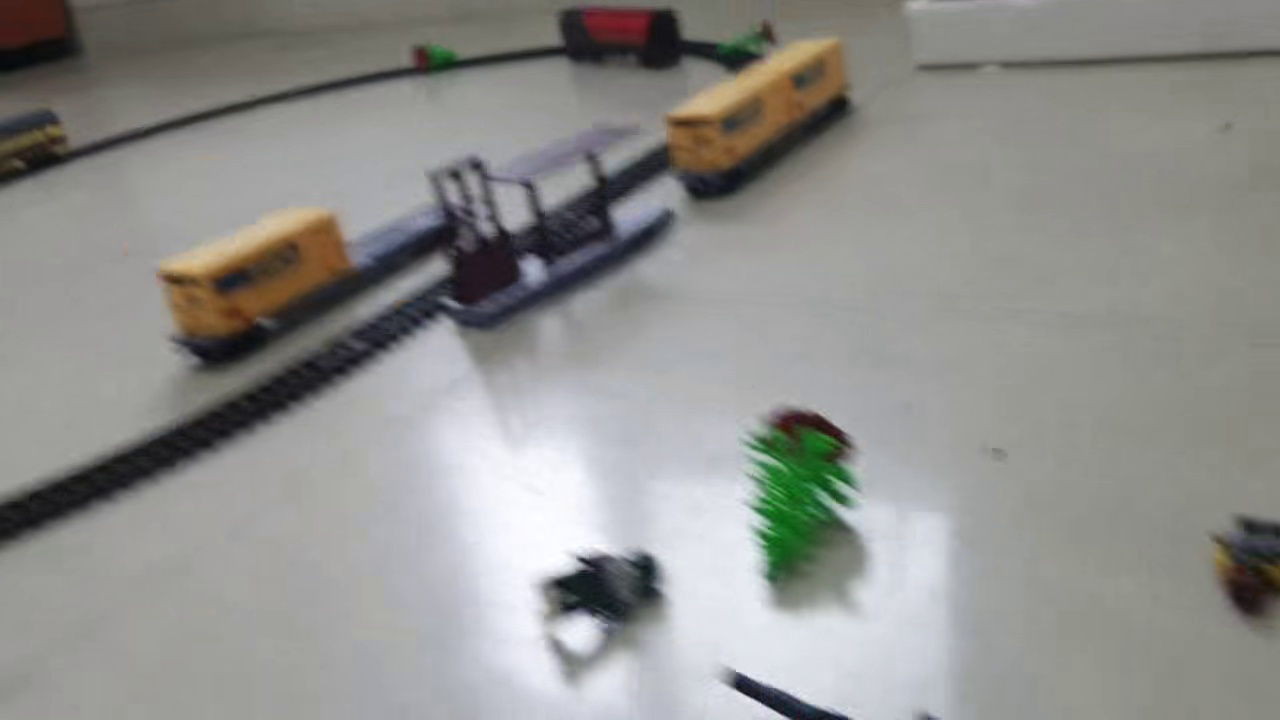people: (533, 543, 673, 637), (1203, 504, 1280, 626)
tree: (744, 407, 864, 597), (714, 18, 786, 62), (409, 38, 459, 74)
